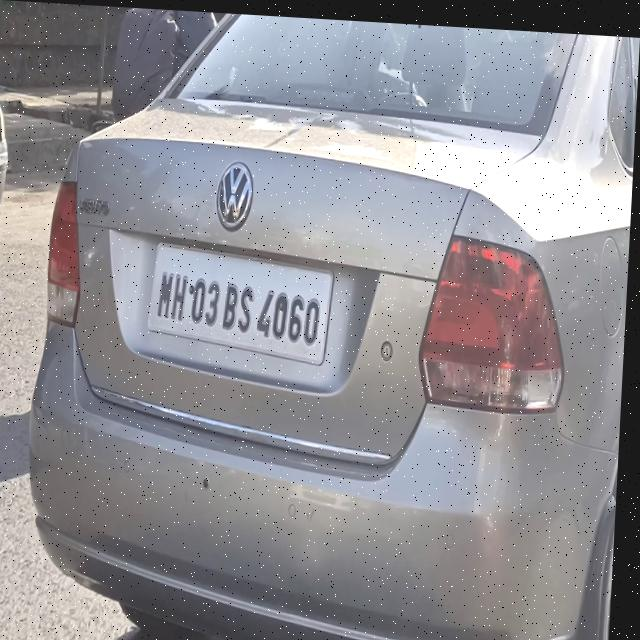plate: (148, 240, 338, 366)
